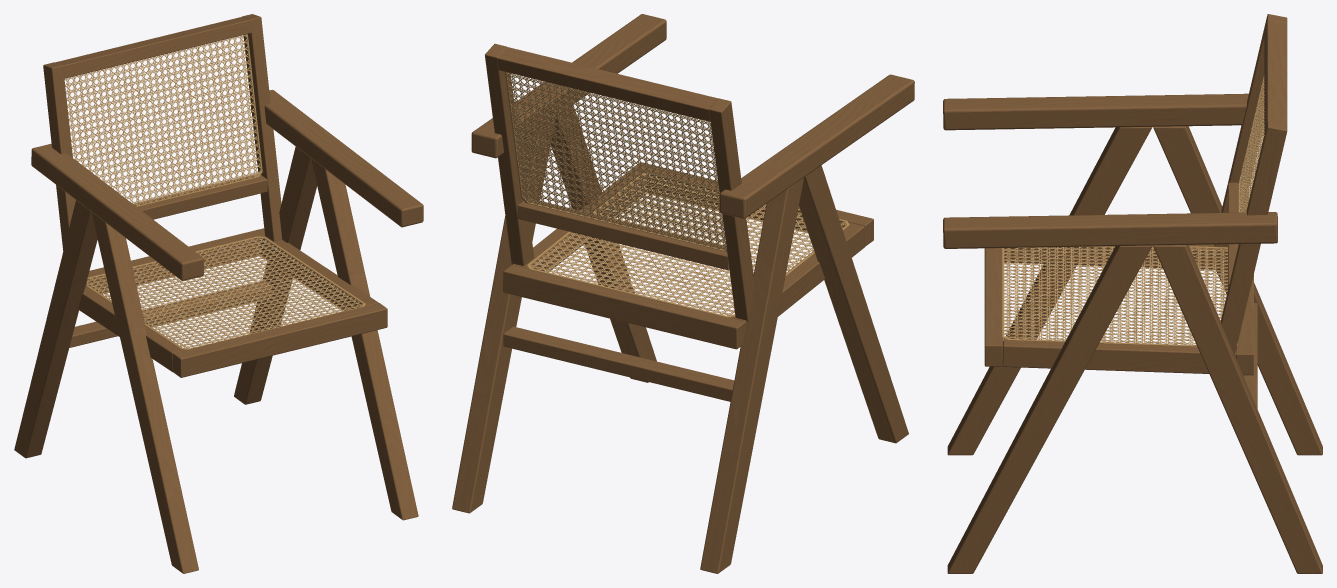
The model's file is rattan-chair.glb.
The picture shows the model from 3 angles, left to right: view 1: azimuth 30°, elevation 25°; view 2: azimuth 150°, elevation 25°; view 3: azimuth 270°, elevation 25°; orthographic projection. The views are drawn at different scales.
Visible parts, largest first — view 1: 12 | back cane - individual editable strands.001, 11 | seat cane - individual editable strands.001, 01 L | compass front leg.001, 01 R | compass front leg.001, 02 L | compass rear leg.001, 03 L | armrest.001, 03 R | armrest.001, 05 | seat front rail.001, 02 R | compass rear leg.001, 07 R | back upright.001, 08 | back top rail.001, 07 L | back upright.001 (+7 smaller); view 2: 12 | back cane - individual editable strands.001, 02 L | compass rear leg.001, 11 | seat cane - individual editable strands.001, 01 L | compass front leg.001, 02 R | compass rear leg.001, 03 L | armrest.001, 06 | seat rear rail.001, 08 | back top rail.001, 03 R | armrest.001, 10 | lower rear stretcher.001, 01 R | compass front leg.001, 09 | back lower rail.001 (+7 smaller); view 3: 11 | seat cane - individual editable strands.001, 01 R | compass front leg.001, 02 R | compass rear leg.001, 03 R | armrest.001, 03 L | armrest.001, 01 L | compass front leg.001, 02 L | compass rear leg.001, 04 R | seat side rail.001, 07 R | back upright.001, 08 | back top rail.001, 05 | seat front rail.001, 07 L | back upright.001 (+6 smaller).
Part boxes in pixels (box(x1,y1,x2,y2)): 12 | back cane - individual editable strands.001: box(64, 35, 260, 205); 11 | seat cane - individual editable strands.001: box(86, 238, 362, 348); 01 L | compass front leg.001: box(91, 212, 198, 573); 01 R | compass front leg.001: box(311, 158, 418, 520); 02 L | compass rear leg.001: box(14, 200, 97, 458); 03 L | armrest.001: box(31, 143, 203, 280); 03 R | armrest.001: box(251, 90, 423, 227); 05 | seat front rail.001: box(173, 303, 387, 377); 02 R | compass rear leg.001: box(234, 147, 316, 404); 07 R | back upright.001: box(242, 14, 282, 241); 08 | back top rail.001: box(55, 17, 251, 78); 07 L | back upright.001: box(43, 62, 86, 287); 12 | back cane - individual editable strands.001: box(506, 72, 726, 250); 02 L | compass rear leg.001: box(700, 177, 803, 573); 11 | seat cane - individual editable strands.001: box(531, 174, 845, 315); 01 L | compass front leg.001: box(799, 165, 908, 443); 02 R | compass rear leg.001: box(452, 118, 555, 513); 03 L | armrest.001: box(719, 74, 914, 218); 06 | seat rear rail.001: box(503, 264, 745, 349); 08 | back top rail.001: box(497, 47, 718, 121); 03 R | armrest.001: box(471, 14, 666, 158); 10 | lower rear stretcher.001: box(503, 326, 734, 401); 01 R | compass front leg.001: box(550, 104, 656, 382); 09 | back lower rail.001: box(517, 198, 729, 270); 11 | seat cane - individual editable strands.001: box(1004, 246, 1227, 344); 01 R | compass front leg.001: box(947, 245, 1152, 573); 02 R | compass rear leg.001: box(1153, 245, 1322, 573); 03 R | armrest.001: box(943, 212, 1277, 248); 03 L | armrest.001: box(943, 93, 1248, 130); 01 L | compass front leg.001: box(947, 127, 1152, 455); 02 L | compass rear leg.001: box(1153, 126, 1322, 455); 04 R | seat side rail.001: box(1002, 338, 1236, 373); 07 R | back upright.001: box(1220, 121, 1287, 355); 08 | back top rail.001: box(1264, 20, 1287, 133); 05 | seat front rail.001: box(984, 248, 1002, 366); 07 L | back upright.001: box(1214, 14, 1287, 246).
Size of the model in its own units: 0.548 by 0.8578 by 0.6706.
Materials: 5 (1 with a texture image).
